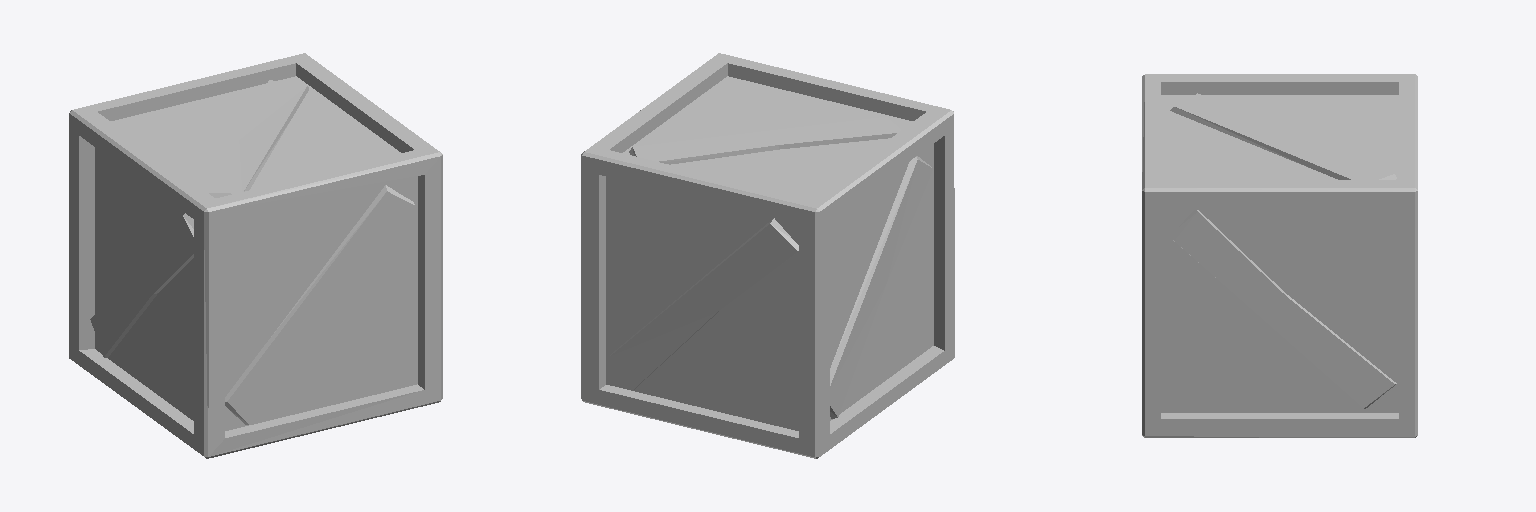
The model's file is crate.obj.
3 views of the same model, side by side, from view 1: azimuth 30°, elevation 25°; view 2: azimuth 150°, elevation 25°; view 3: azimuth 270°, elevation 25° (orthographic).
Visible parts, largest first — view 1: crate002; view 2: crate002; view 3: crate002.
Boxes of the visible parts, <box> form: crate002: <box>69,53,442,458</box>; crate002: <box>581,53,954,458</box>; crate002: <box>1142,74,1417,437</box>.
Bounding box in the file's own units: 0.6002 × 0.6016 × 0.6016.